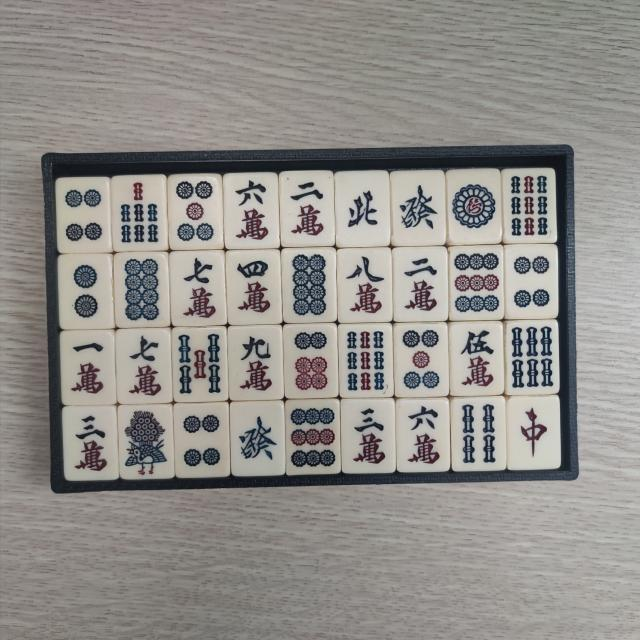hdg: (396, 176, 442, 242), (236, 408, 280, 473)
hdr: (514, 401, 554, 465)
hwn: (340, 176, 386, 242)
sb1: (122, 408, 170, 476)
sb4: (458, 402, 501, 468)
sb5: (179, 332, 226, 399)
sb6: (512, 324, 558, 389)
sb7: (116, 179, 162, 246)
sb9: (507, 172, 551, 238), (343, 328, 387, 393)
sc1: (66, 334, 110, 399)
sc2: (284, 177, 330, 243), (400, 253, 443, 318)
sc3: (70, 412, 114, 477), (348, 404, 391, 470)
sc4: (229, 256, 274, 320)
sc5: (456, 327, 498, 392)
sc6: (228, 175, 273, 243), (402, 402, 444, 468)
sc7: (176, 255, 222, 323), (121, 332, 166, 399)
sc8: (342, 252, 388, 318)
sc9: (234, 330, 278, 396)
sd1: (450, 174, 498, 240)
sd2: (62, 259, 108, 325)
sd4: (179, 408, 224, 474), (62, 182, 106, 248), (510, 250, 554, 315)
sd5: (174, 180, 220, 248), (400, 327, 442, 393)
sd6: (290, 328, 334, 393)
sd8: (119, 256, 164, 324), (287, 253, 332, 319)
sd9: (451, 252, 499, 318), (293, 404, 338, 469)
